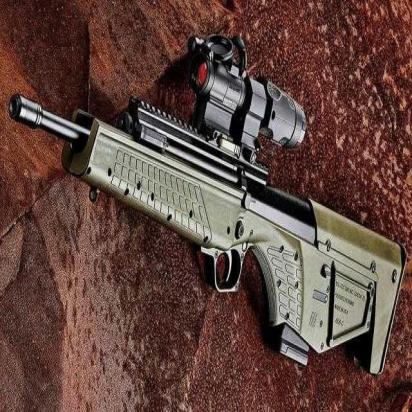Gun: (1, 32, 410, 377)
